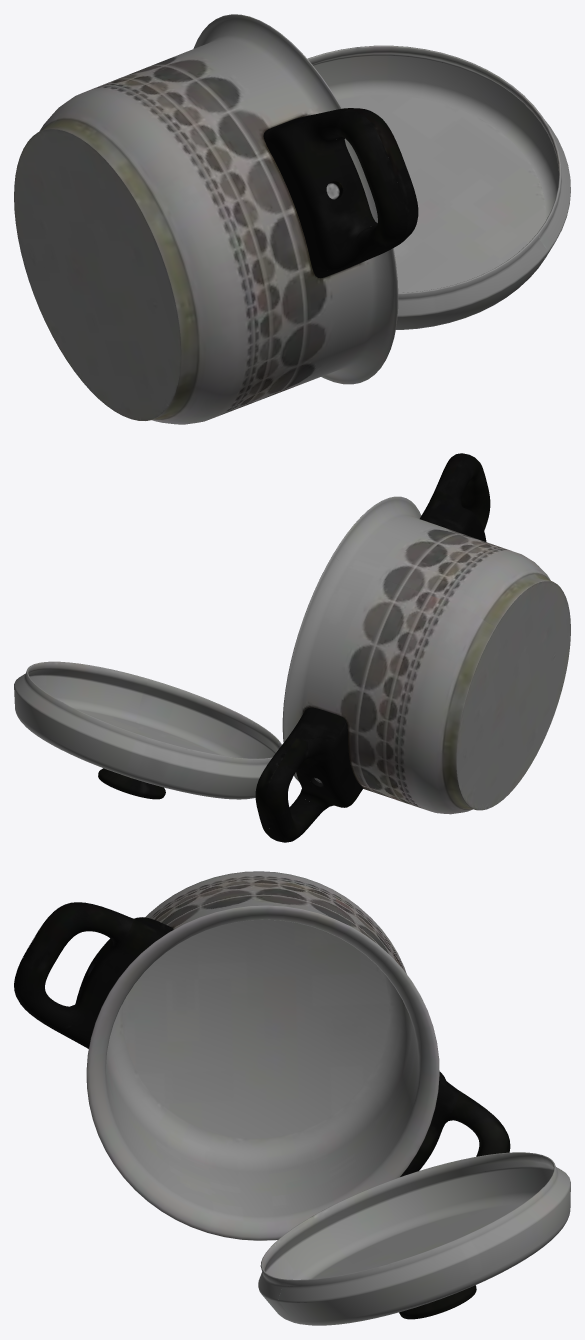
The model's file is s_olla_vieja.glb.
The picture shows the model from 3 angles, top to bottom: view 1: azimuth 30°, elevation 25°; view 2: azimuth 150°, elevation 25°; view 3: azimuth 270°, elevation 25°; orthographic projection. The views are drawn at different scales.
Visible parts, largest first — view 1: Lid_Pot_0; view 2: Lid_Pot_0; view 3: Lid_Pot_0.
Part boxes in pixels (<box>): Lid_Pot_0: <box>14,14,570,424</box>; Lid_Pot_0: <box>14,453,570,842</box>; Lid_Pot_0: <box>14,871,570,1325</box>.
Size of the model in its own units: 0.3 by 0.1833 by 0.2909.
1 material, 1 textured.
